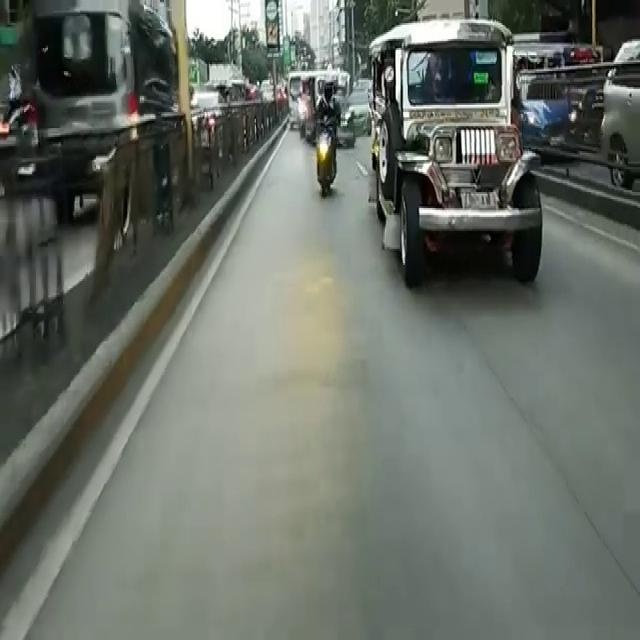car: (37, 10, 178, 215), (516, 68, 575, 150)
jeepney: (377, 30, 534, 292), (509, 46, 603, 107)
motorcycle: (309, 85, 341, 207)
